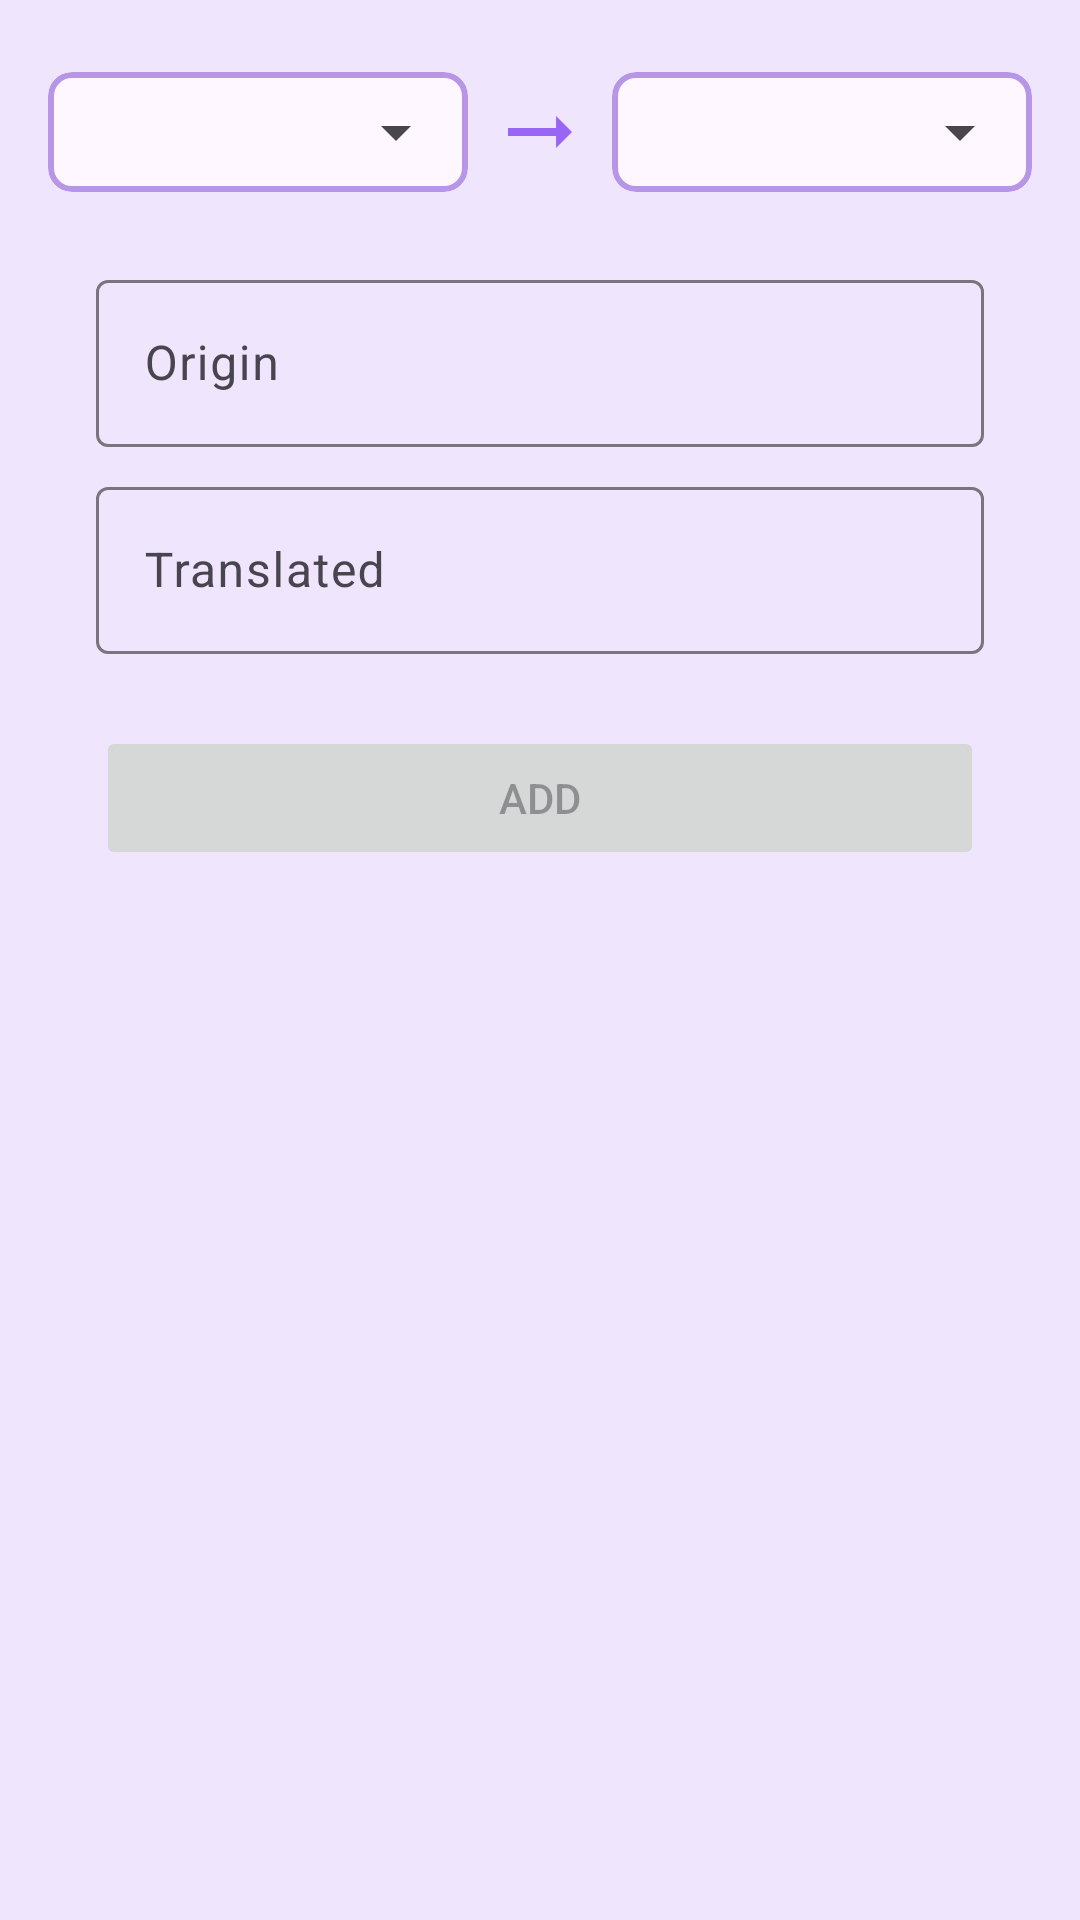

Screen size 1080px x 1920px. Icon name, then its box in pixels as (x1, y1, x2, y2):
Shows which language is being translated from which language: (508, 116, 572, 148)
